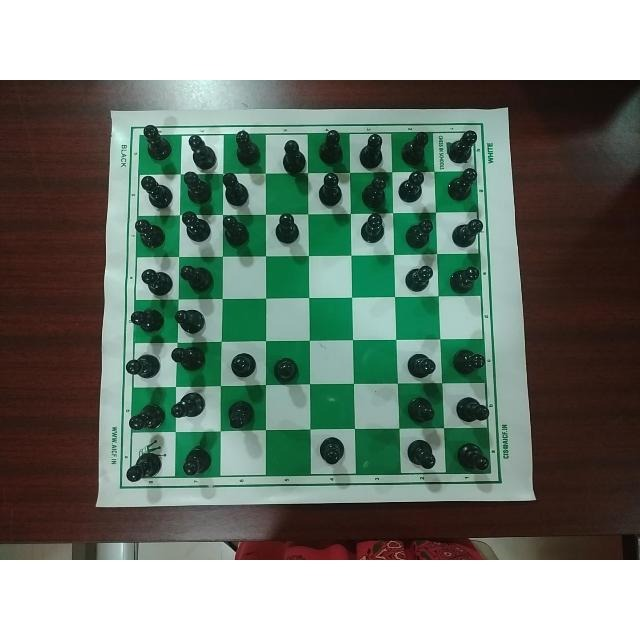black-pawn: (179, 169, 217, 207), (127, 399, 167, 435), (228, 126, 262, 168), (177, 259, 215, 295), (125, 448, 163, 484), (138, 174, 174, 211), (140, 121, 174, 160), (404, 436, 440, 471), (455, 438, 492, 472), (178, 209, 214, 243), (132, 219, 168, 253), (453, 392, 490, 425), (450, 345, 488, 377), (178, 445, 214, 478), (276, 140, 307, 178), (170, 391, 208, 422), (403, 391, 436, 425), (402, 350, 439, 380), (169, 343, 207, 372), (274, 211, 302, 250), (446, 130, 479, 163), (186, 134, 218, 168), (446, 168, 478, 202), (450, 217, 484, 249), (360, 176, 392, 210), (225, 396, 255, 432), (135, 267, 172, 296), (318, 130, 346, 168), (357, 132, 385, 170), (401, 217, 434, 249), (448, 261, 479, 295), (397, 171, 428, 205), (399, 131, 428, 167), (173, 306, 209, 335), (129, 308, 166, 336), (222, 215, 254, 247), (316, 174, 346, 208), (125, 355, 161, 383), (222, 173, 252, 206), (403, 263, 435, 293), (359, 213, 388, 246), (274, 353, 302, 387), (318, 433, 344, 469), (229, 351, 259, 379)
